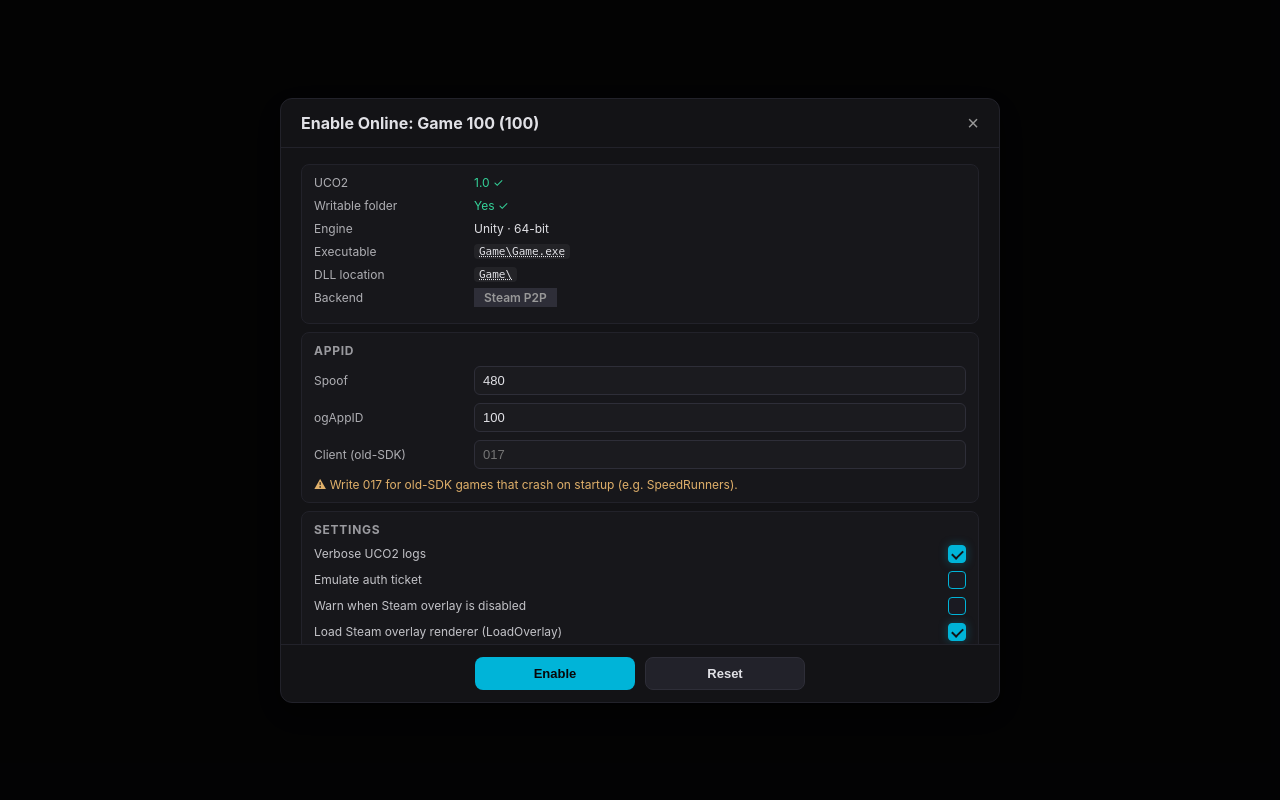
Test: OnlinePanel enable warnings › reports a presence warning without turning a successful enable into an error
Click the button "Enable". click: (555, 673)
box: [475,656,635,690]
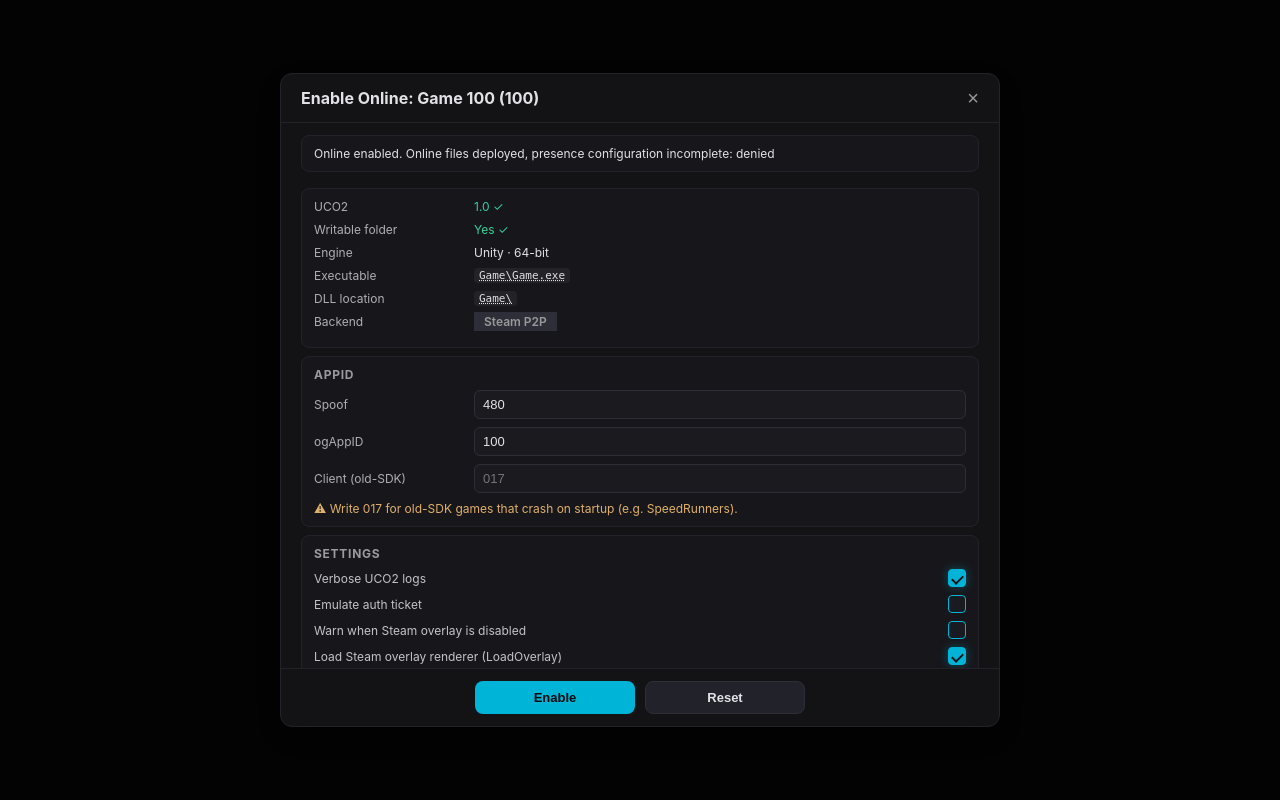
Expected: the text "Online enabled." is shown, [314,146,775,161]
